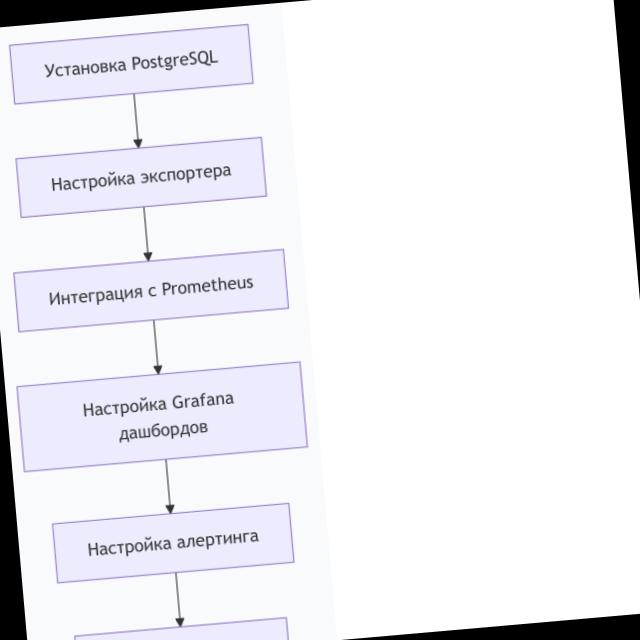arrow: (168, 573, 185, 628), (136, 207, 153, 261), (158, 460, 175, 514), (126, 95, 143, 149), (154, 320, 162, 373)
rectangle: (17, 361, 308, 472), (14, 248, 289, 332), (16, 136, 267, 218), (52, 502, 295, 584), (9, 24, 254, 105)
